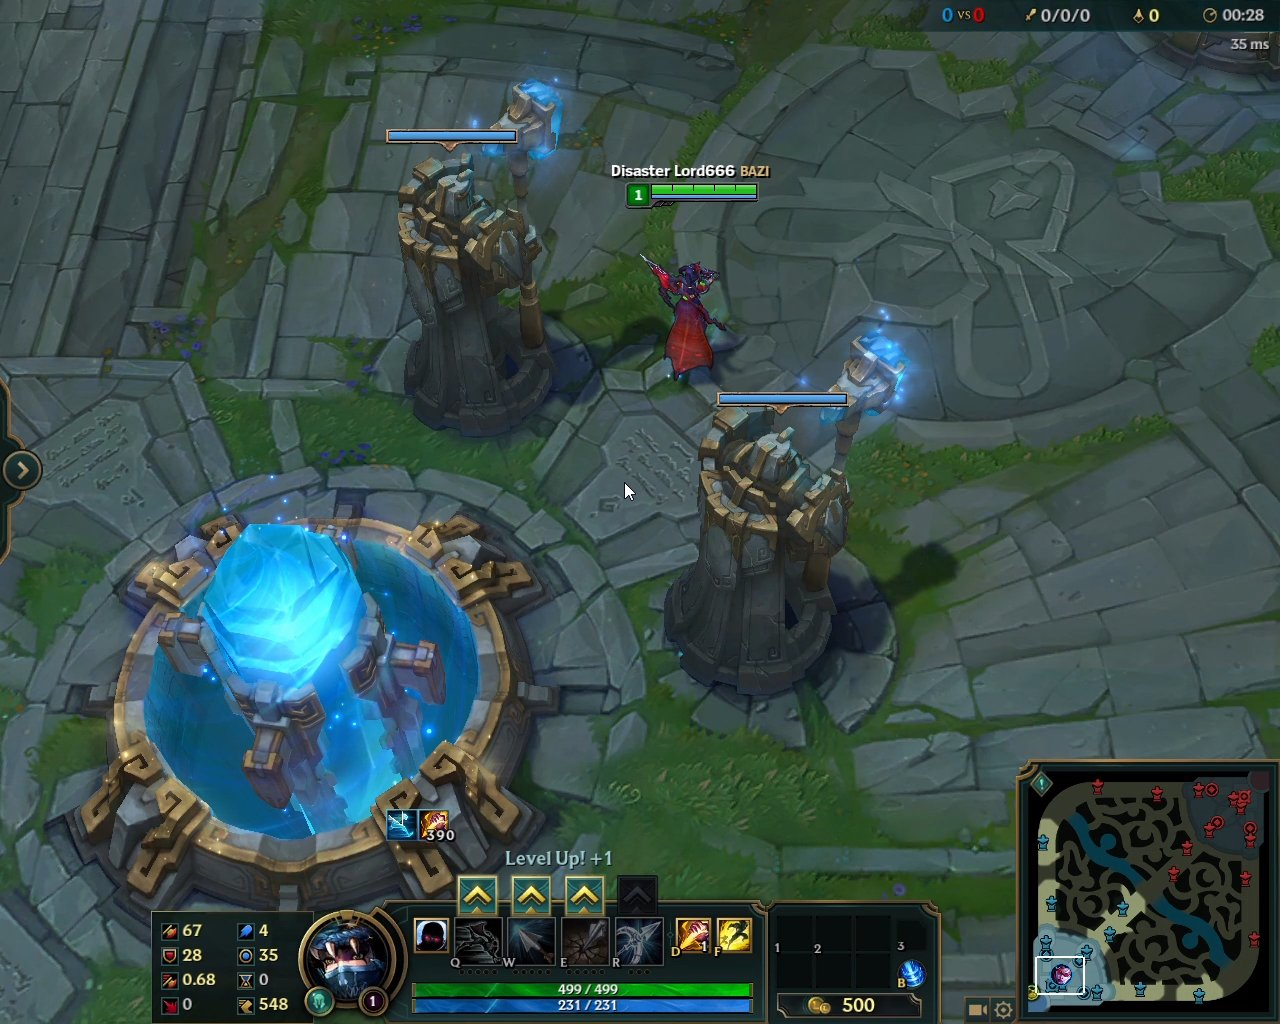Vayne: (635, 247, 739, 388)
